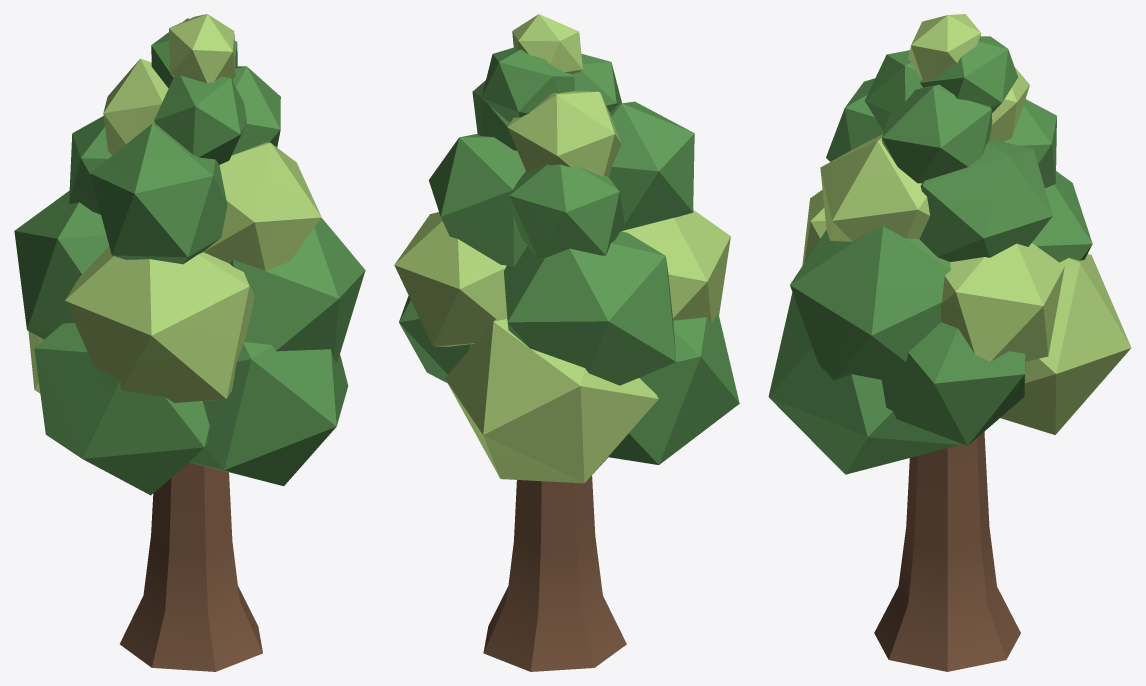
The model's file is Chêne_03.fbx.
The picture shows the model from 3 angles, left to right: view 1: azimuth 30°, elevation 25°; view 2: azimuth 150°, elevation 25°; view 3: azimuth 270°, elevation 25°; orthographic projection.
Parts seen in each view (by area): view 1: Chêne_03; view 2: Chêne_03; view 3: Chêne_03.
Boxes of the visible parts, x1,y1,x2,y2 form: Chêne_03: (14, 14, 365, 671); Chêne_03: (394, 14, 739, 671); Chêne_03: (768, 14, 1131, 671).
Bounding box in the file's own units: 253 × 507 × 264.
Materials: 1 (1 with a texture image).
